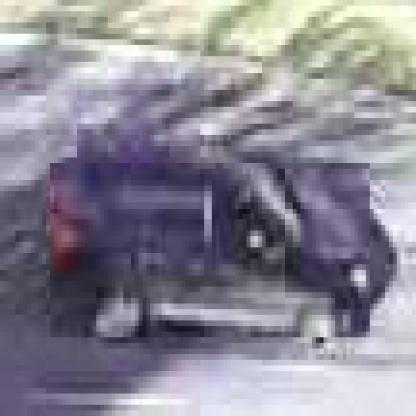car: (47, 164, 371, 344)
